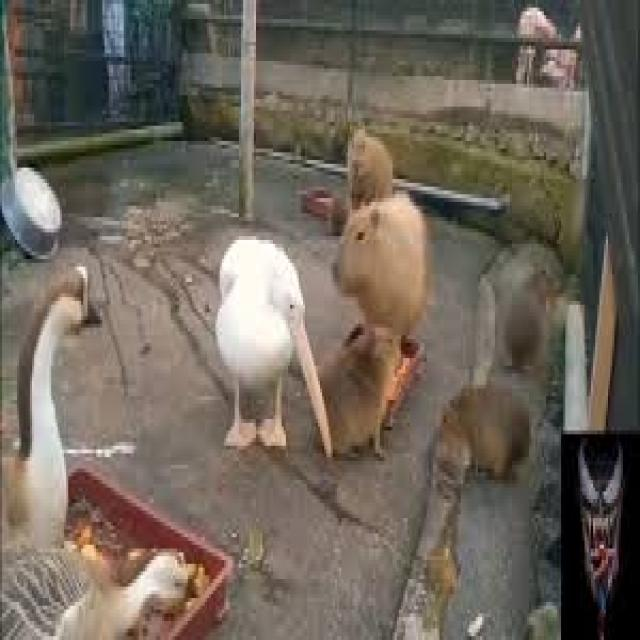capy: (334, 190, 430, 342), (314, 333, 404, 465), (436, 383, 534, 487), (345, 116, 394, 204)
